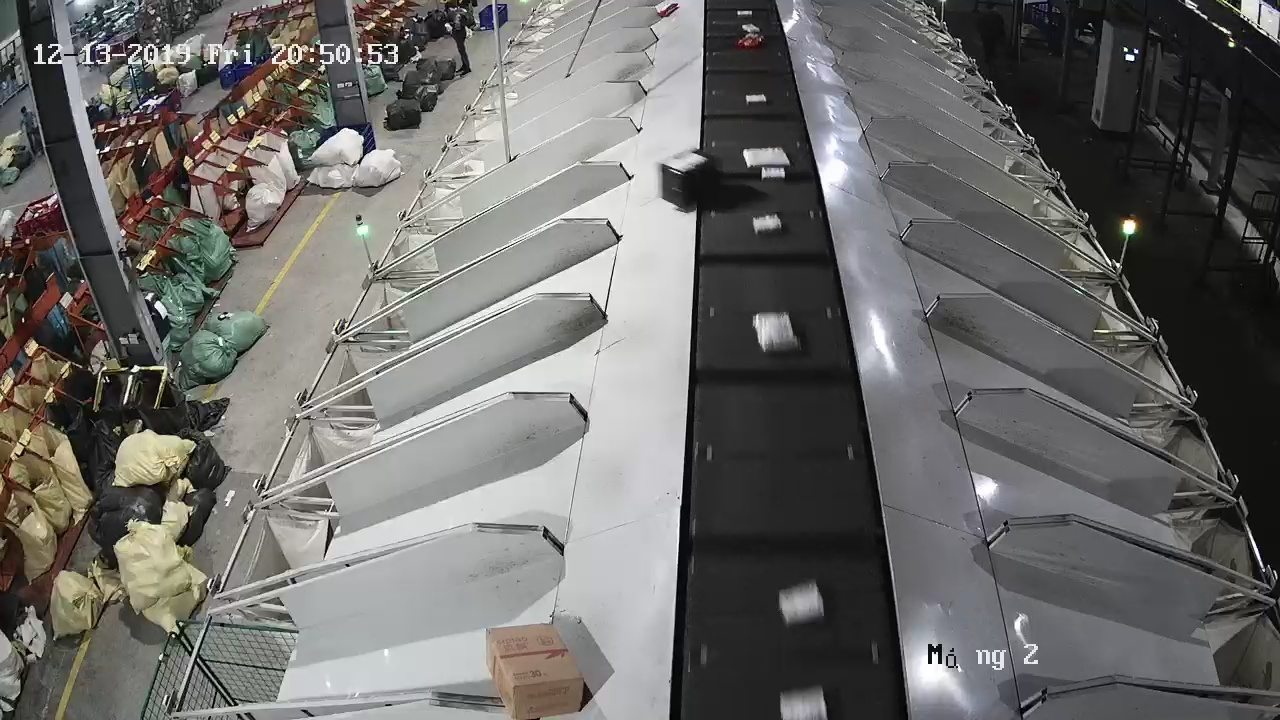parcel: (656, 147, 715, 210)
